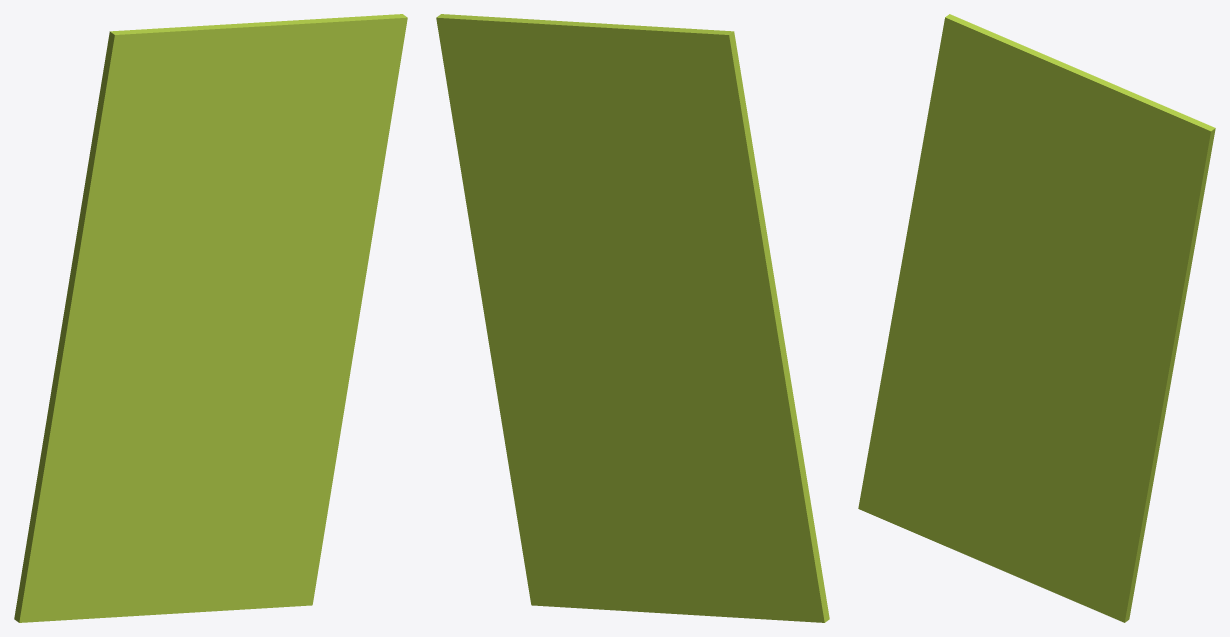
The picture shows the model from 3 angles, left to right: view 1: azimuth 30°, elevation 25°; view 2: azimuth 150°, elevation 25°; view 3: azimuth 330°, elevation 25°; orthographic projection. The views are drawn at different scales.
Parts seen in each view (by area): view 1: osm-way27917482-F2; view 2: osm-way27917482-F2; view 3: osm-way27917482-F2.
Part boxes in pixels (left/top/right/bottom): osm-way27917482-F2: left=14, top=14, right=407, bottom=622; osm-way27917482-F2: left=436, top=14, right=829, bottom=622; osm-way27917482-F2: left=858, top=14, right=1215, bottom=622.
Size of the model in its own units: 6.61 by 10.05 by 0.15.
